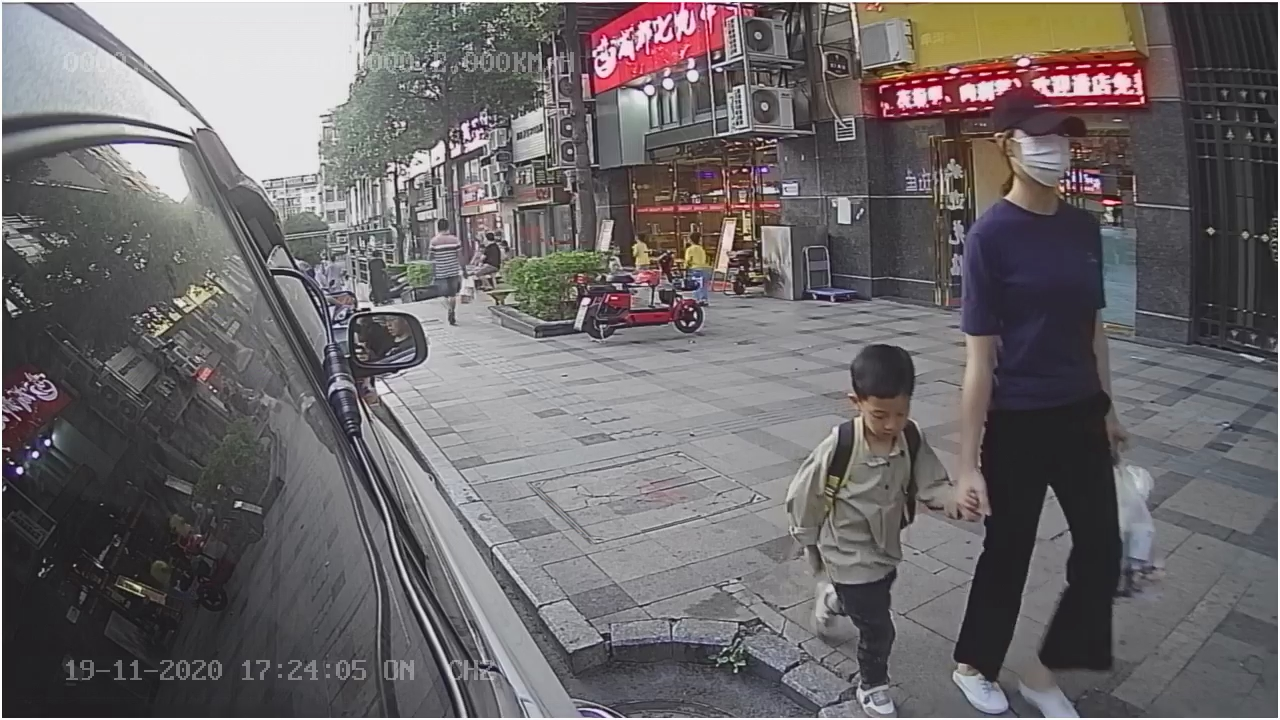person: (946, 94, 1130, 720), (779, 331, 950, 717)
